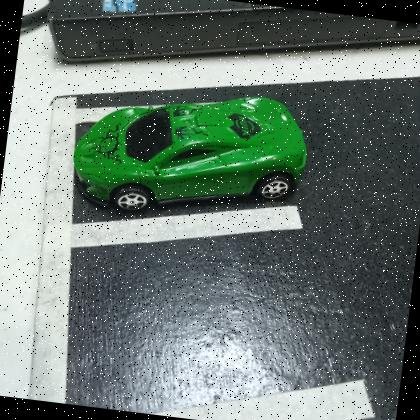Car: (68, 73, 316, 234)
